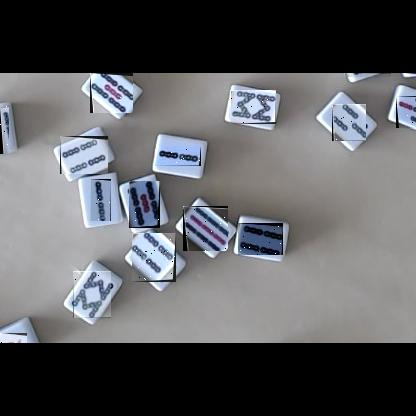1s: (0, 333, 27, 343)
2s: (155, 146, 201, 166), (90, 179, 111, 221)
3s: (332, 104, 366, 141)
4s: (132, 233, 176, 282), (60, 136, 108, 174), (238, 223, 283, 255)
5s: (90, 73, 133, 113), (129, 181, 160, 228)
6s: (405, 73, 416, 74)
7s: (396, 96, 416, 128), (344, 73, 391, 77)
8s: (73, 271, 111, 318), (230, 90, 276, 124)
9s: (183, 206, 228, 251), (0, 106, 9, 154)
